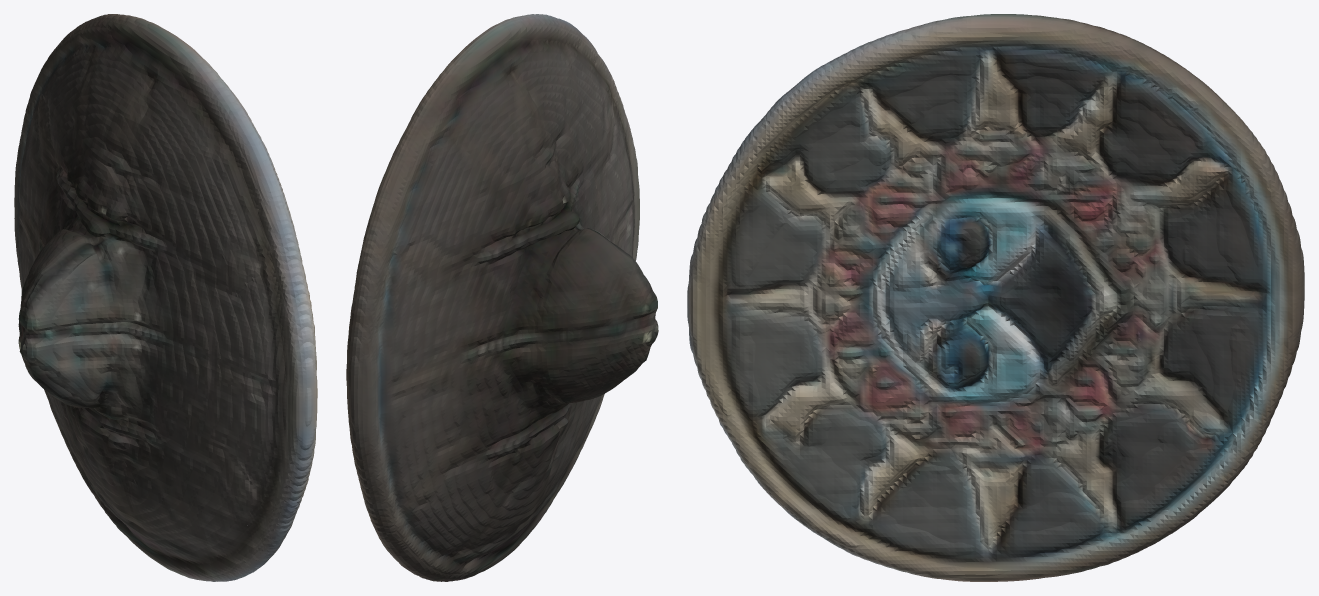
3 views of the same model, side by side, from view 1: azimuth 30°, elevation 25°; view 2: azimuth 150°, elevation 25°; view 3: azimuth 270°, elevation 25° (orthographic). The views are drawn at different scales.
Visible parts, largest first — view 1: world; view 2: world; view 3: world.
Boxes of the visible parts, box(x1,y1,x2,y2) form: world: box(14, 14, 317, 581); world: box(346, 14, 658, 581); world: box(687, 14, 1304, 581).
Bounding box in the file's own units: 0.3517 × 1 × 0.9842.
